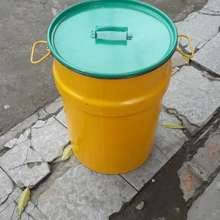metal: (29, 1, 196, 177)
